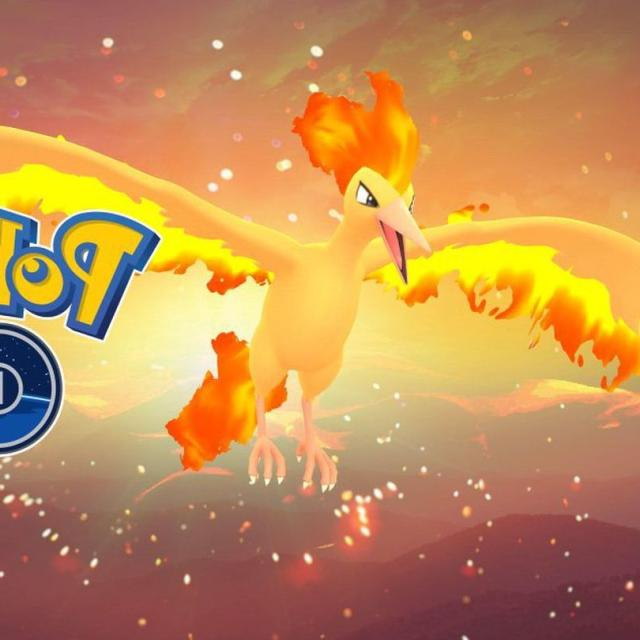Moltres: (151, 70, 507, 500)
